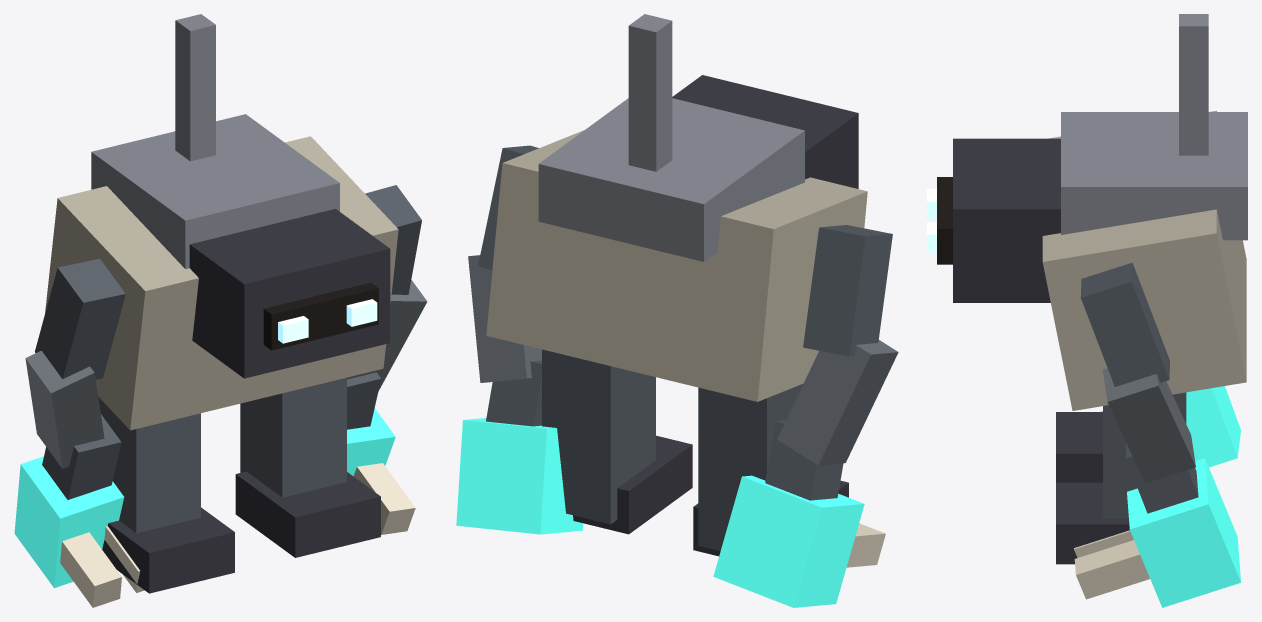
Rendered from monsters__cableStalker.glb.
3 views of the same model, side by side, from view 1: azimuth 30°, elevation 25°; view 2: azimuth 150°, elevation 25°; view 3: azimuth 270°, elevation 25° (orthographic). The views are drawn at different scales.
Visible parts, largest first — view 1: monsters__cableStalker, rig_armL, rig_legR, rig_legL, rig_armR; view 2: monsters__cableStalker, rig_armL, rig_armR, rig_legR, rig_legL; view 3: monsters__cableStalker, rig_armR, rig_legR, rig_armL, rig_legL.
Boxes of the visible parts, left/top/right/bottom form: monsters__cableStalker: left=45, top=14, right=398, bottom=430; rig_armL: left=14, top=258, right=144, bottom=607; rig_legR: left=235, top=377, right=380, bottom=557; rig_legL: left=98, top=397, right=234, bottom=593; rig_armR: left=347, top=185, right=427, bottom=534; monsters__cableStalker: left=486, top=14, right=867, bottom=401; rig_armL: left=713, top=225, right=898, bottom=607; rig_armR: left=456, top=145, right=583, bottom=534; rig_legR: left=542, top=349, right=692, bottom=534; rig_legL: left=693, top=384, right=848, bottom=556; monsters__cableStalker: left=927, top=14, right=1247, bottom=410; rig_armR: left=1074, top=262, right=1240, bottom=607; rig_legR: left=1056, top=392, right=1186, bottom=564; rig_armL: left=1100, top=386, right=1240, bottom=467; rig_legL: left=1056, top=412, right=1102, bottom=482.
Size of the model in its own units: 1.75 by 2.3 by 1.3.
